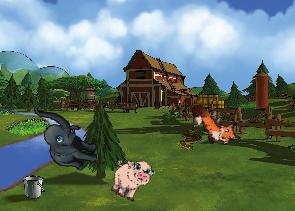elephant: (26, 106, 103, 172)
fox: (188, 92, 244, 154)
pig: (105, 152, 157, 206)
